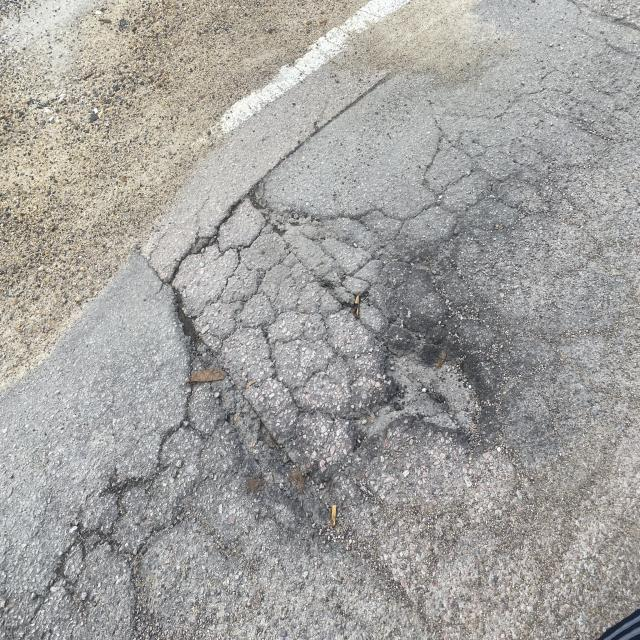pothole: (67, 136, 527, 511)
